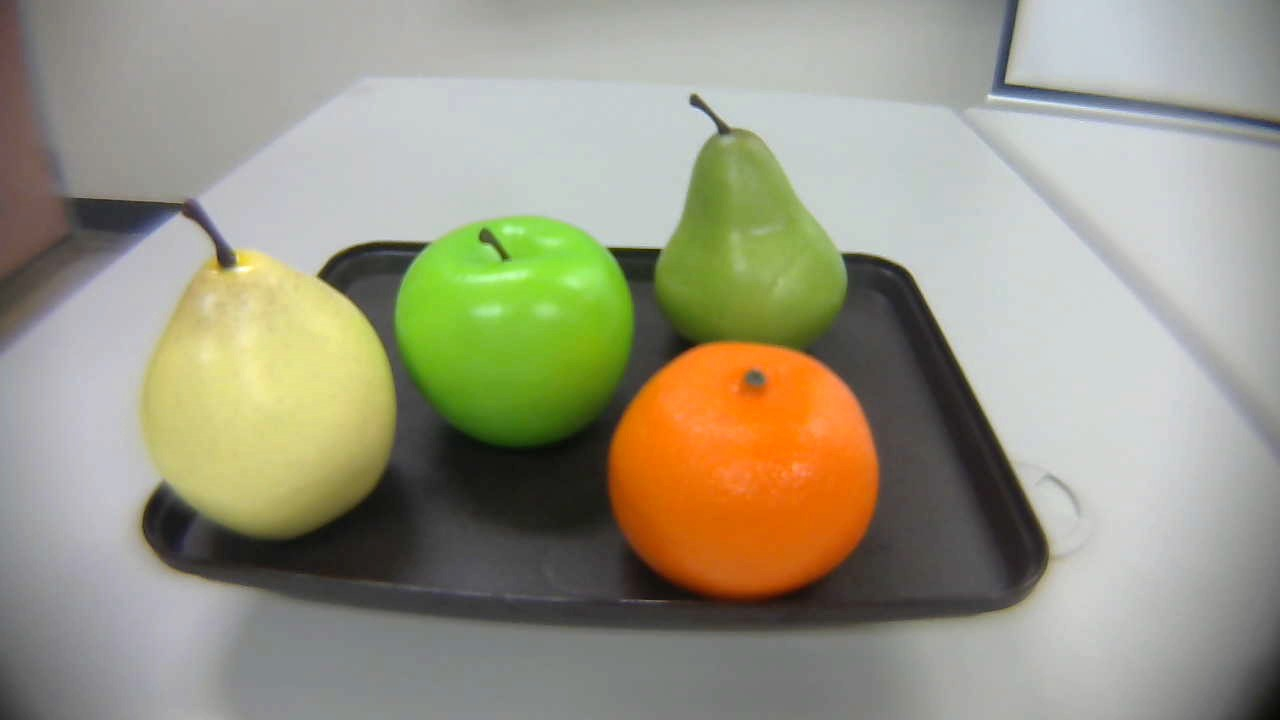green apple: (390, 213, 640, 451)
green pear: (647, 96, 863, 376)
orange: (610, 336, 892, 609)
western pear: (132, 201, 407, 551)
